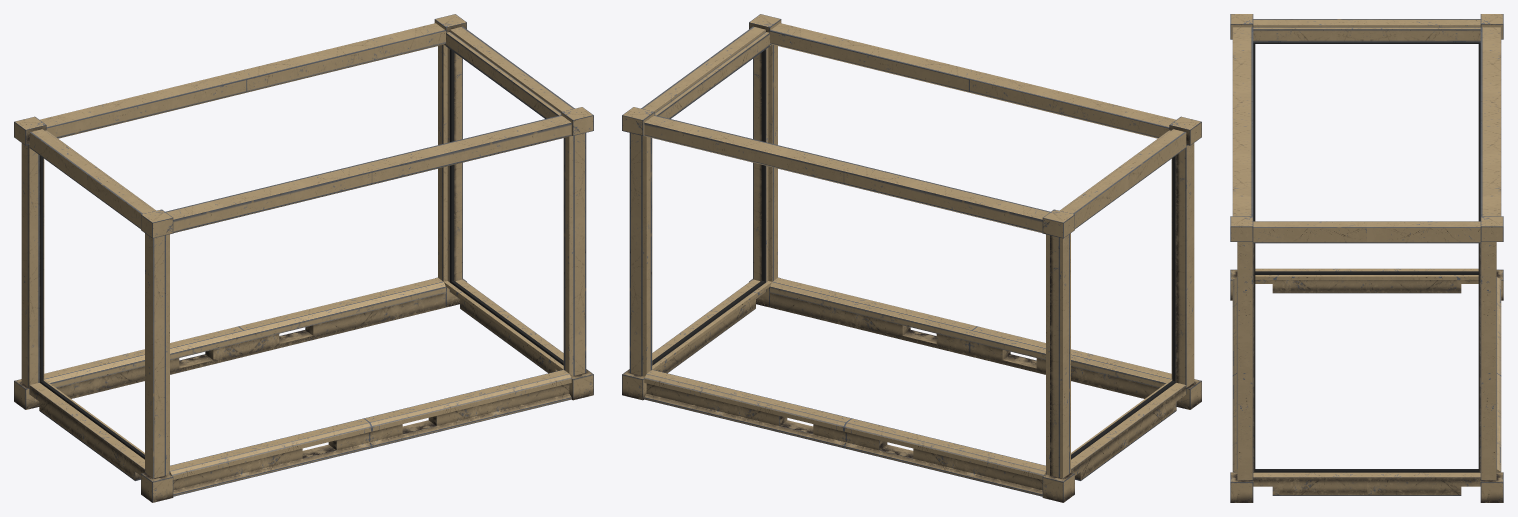
File: CnFrameA1.fbx
3 renders of one model, left to right at view 1: azimuth 30°, elevation 25°; view 2: azimuth 150°, elevation 25°; view 3: azimuth 270°, elevation 25°, orthographic.
Parts seen in each view (by area): view 1: CnFrameA1; view 2: CnFrameA1; view 3: CnFrameA1.
Part boxes in pixels (<box>): CnFrameA1: <box>14,14,593,502</box>; CnFrameA1: <box>622,14,1201,502</box>; CnFrameA1: <box>1230,14,1503,502</box>.
Size of the model in its own units: 442 by 268 by 240.
